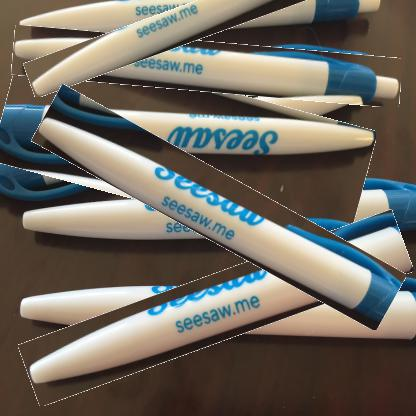Pen: (0, 59, 373, 233), (27, 130, 411, 286), (18, 242, 415, 374), (12, 33, 401, 100), (20, 0, 377, 68)
